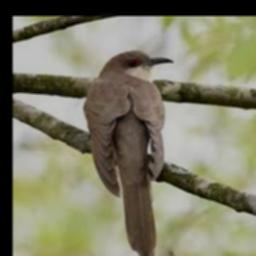Cuckoo: (84, 50, 174, 256)
